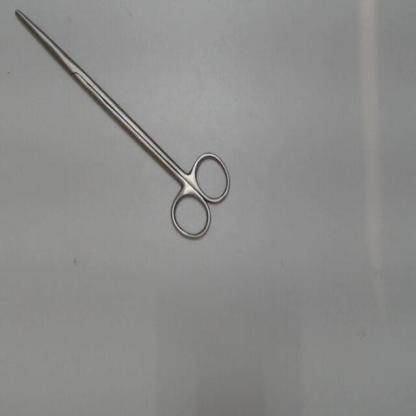9 Metzenbaum Scissors: (13, 4, 237, 246)
